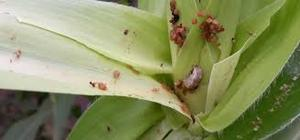fallarmy_worm: (175, 65, 208, 95)
